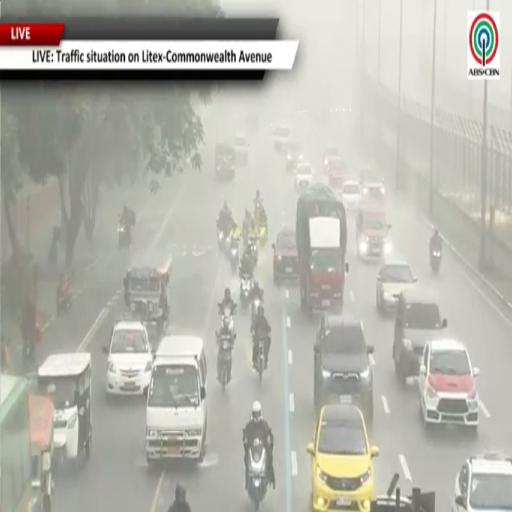bus: (0, 375, 34, 511)
car: (307, 405, 378, 511), (314, 314, 374, 423), (418, 339, 479, 429), (393, 286, 447, 383), (104, 320, 153, 396), (451, 453, 511, 511), (376, 256, 417, 312), (356, 201, 392, 259), (273, 228, 298, 283), (215, 142, 235, 181), (327, 156, 348, 191), (342, 180, 361, 212), (272, 122, 291, 151), (359, 165, 384, 187), (286, 141, 303, 173), (295, 162, 313, 191), (234, 132, 248, 166), (363, 182, 385, 202), (323, 146, 339, 173)
jeepney: (124, 259, 172, 337), (29, 394, 54, 511)
motorcycle: (248, 438, 268, 510), (216, 332, 236, 390), (254, 335, 265, 381), (240, 275, 253, 308), (251, 290, 263, 325), (56, 291, 72, 315), (221, 308, 235, 333), (118, 222, 131, 248), (430, 249, 442, 274), (230, 242, 239, 273), (248, 238, 258, 265), (258, 224, 267, 246), (218, 228, 226, 249)
truck: (296, 184, 348, 313), (0, 375, 41, 511)
